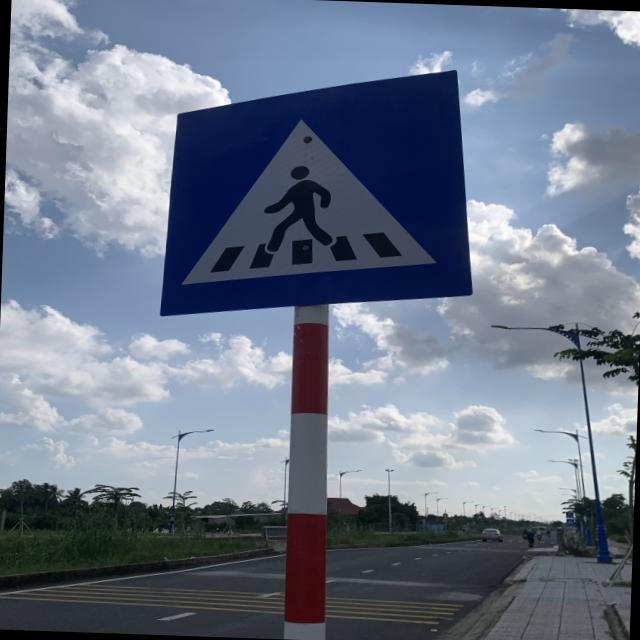Giao_Nhau_Duong_Uu_Tien: (160, 61, 477, 326)
